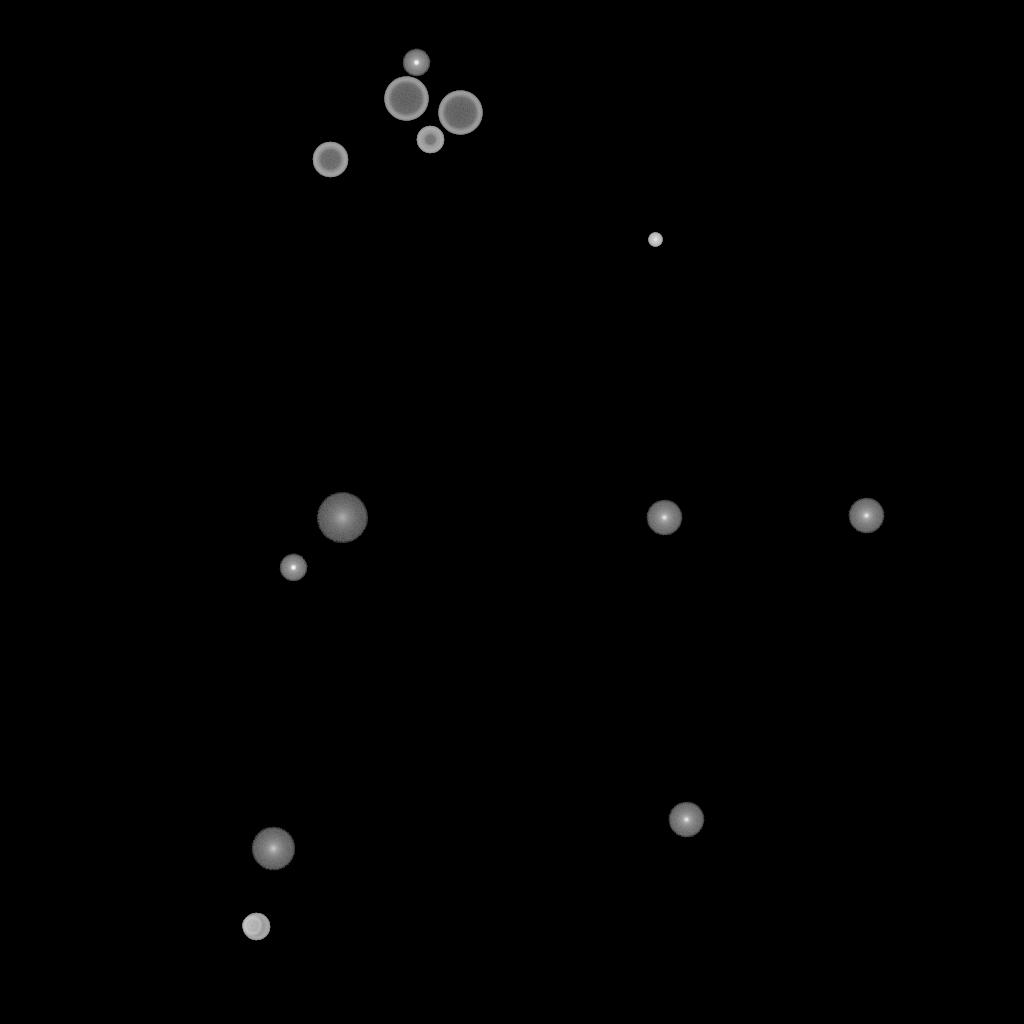depth:-10: (402, 49, 430, 77), (279, 554, 307, 582)
depth:-30: (648, 233, 662, 247)
depth:-40: (242, 916, 262, 936)
depth:-50: (416, 126, 444, 154), (242, 913, 270, 941)
depth:-60: (312, 142, 348, 178)
depth:-70: (438, 91, 482, 135), (384, 77, 428, 121)
depth:0: (646, 500, 682, 536), (668, 802, 704, 838), (848, 498, 884, 534)
depth:10: (251, 827, 295, 871)
depth:20: (316, 493, 368, 543)
